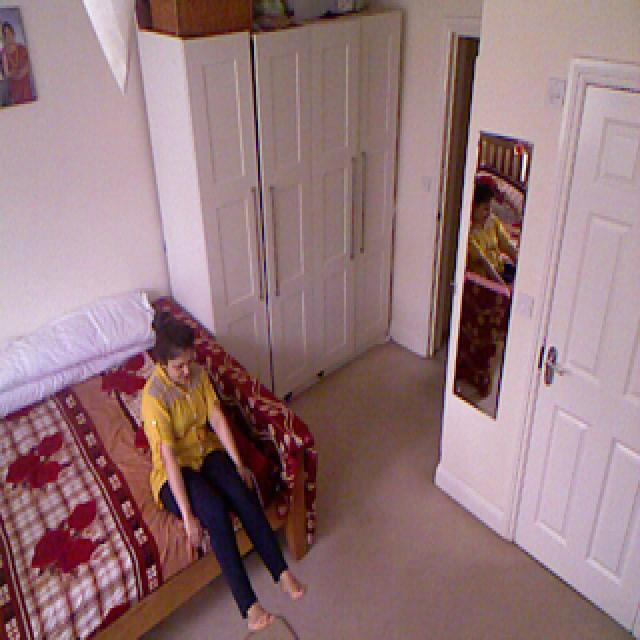sitting: (140, 304, 305, 640)
